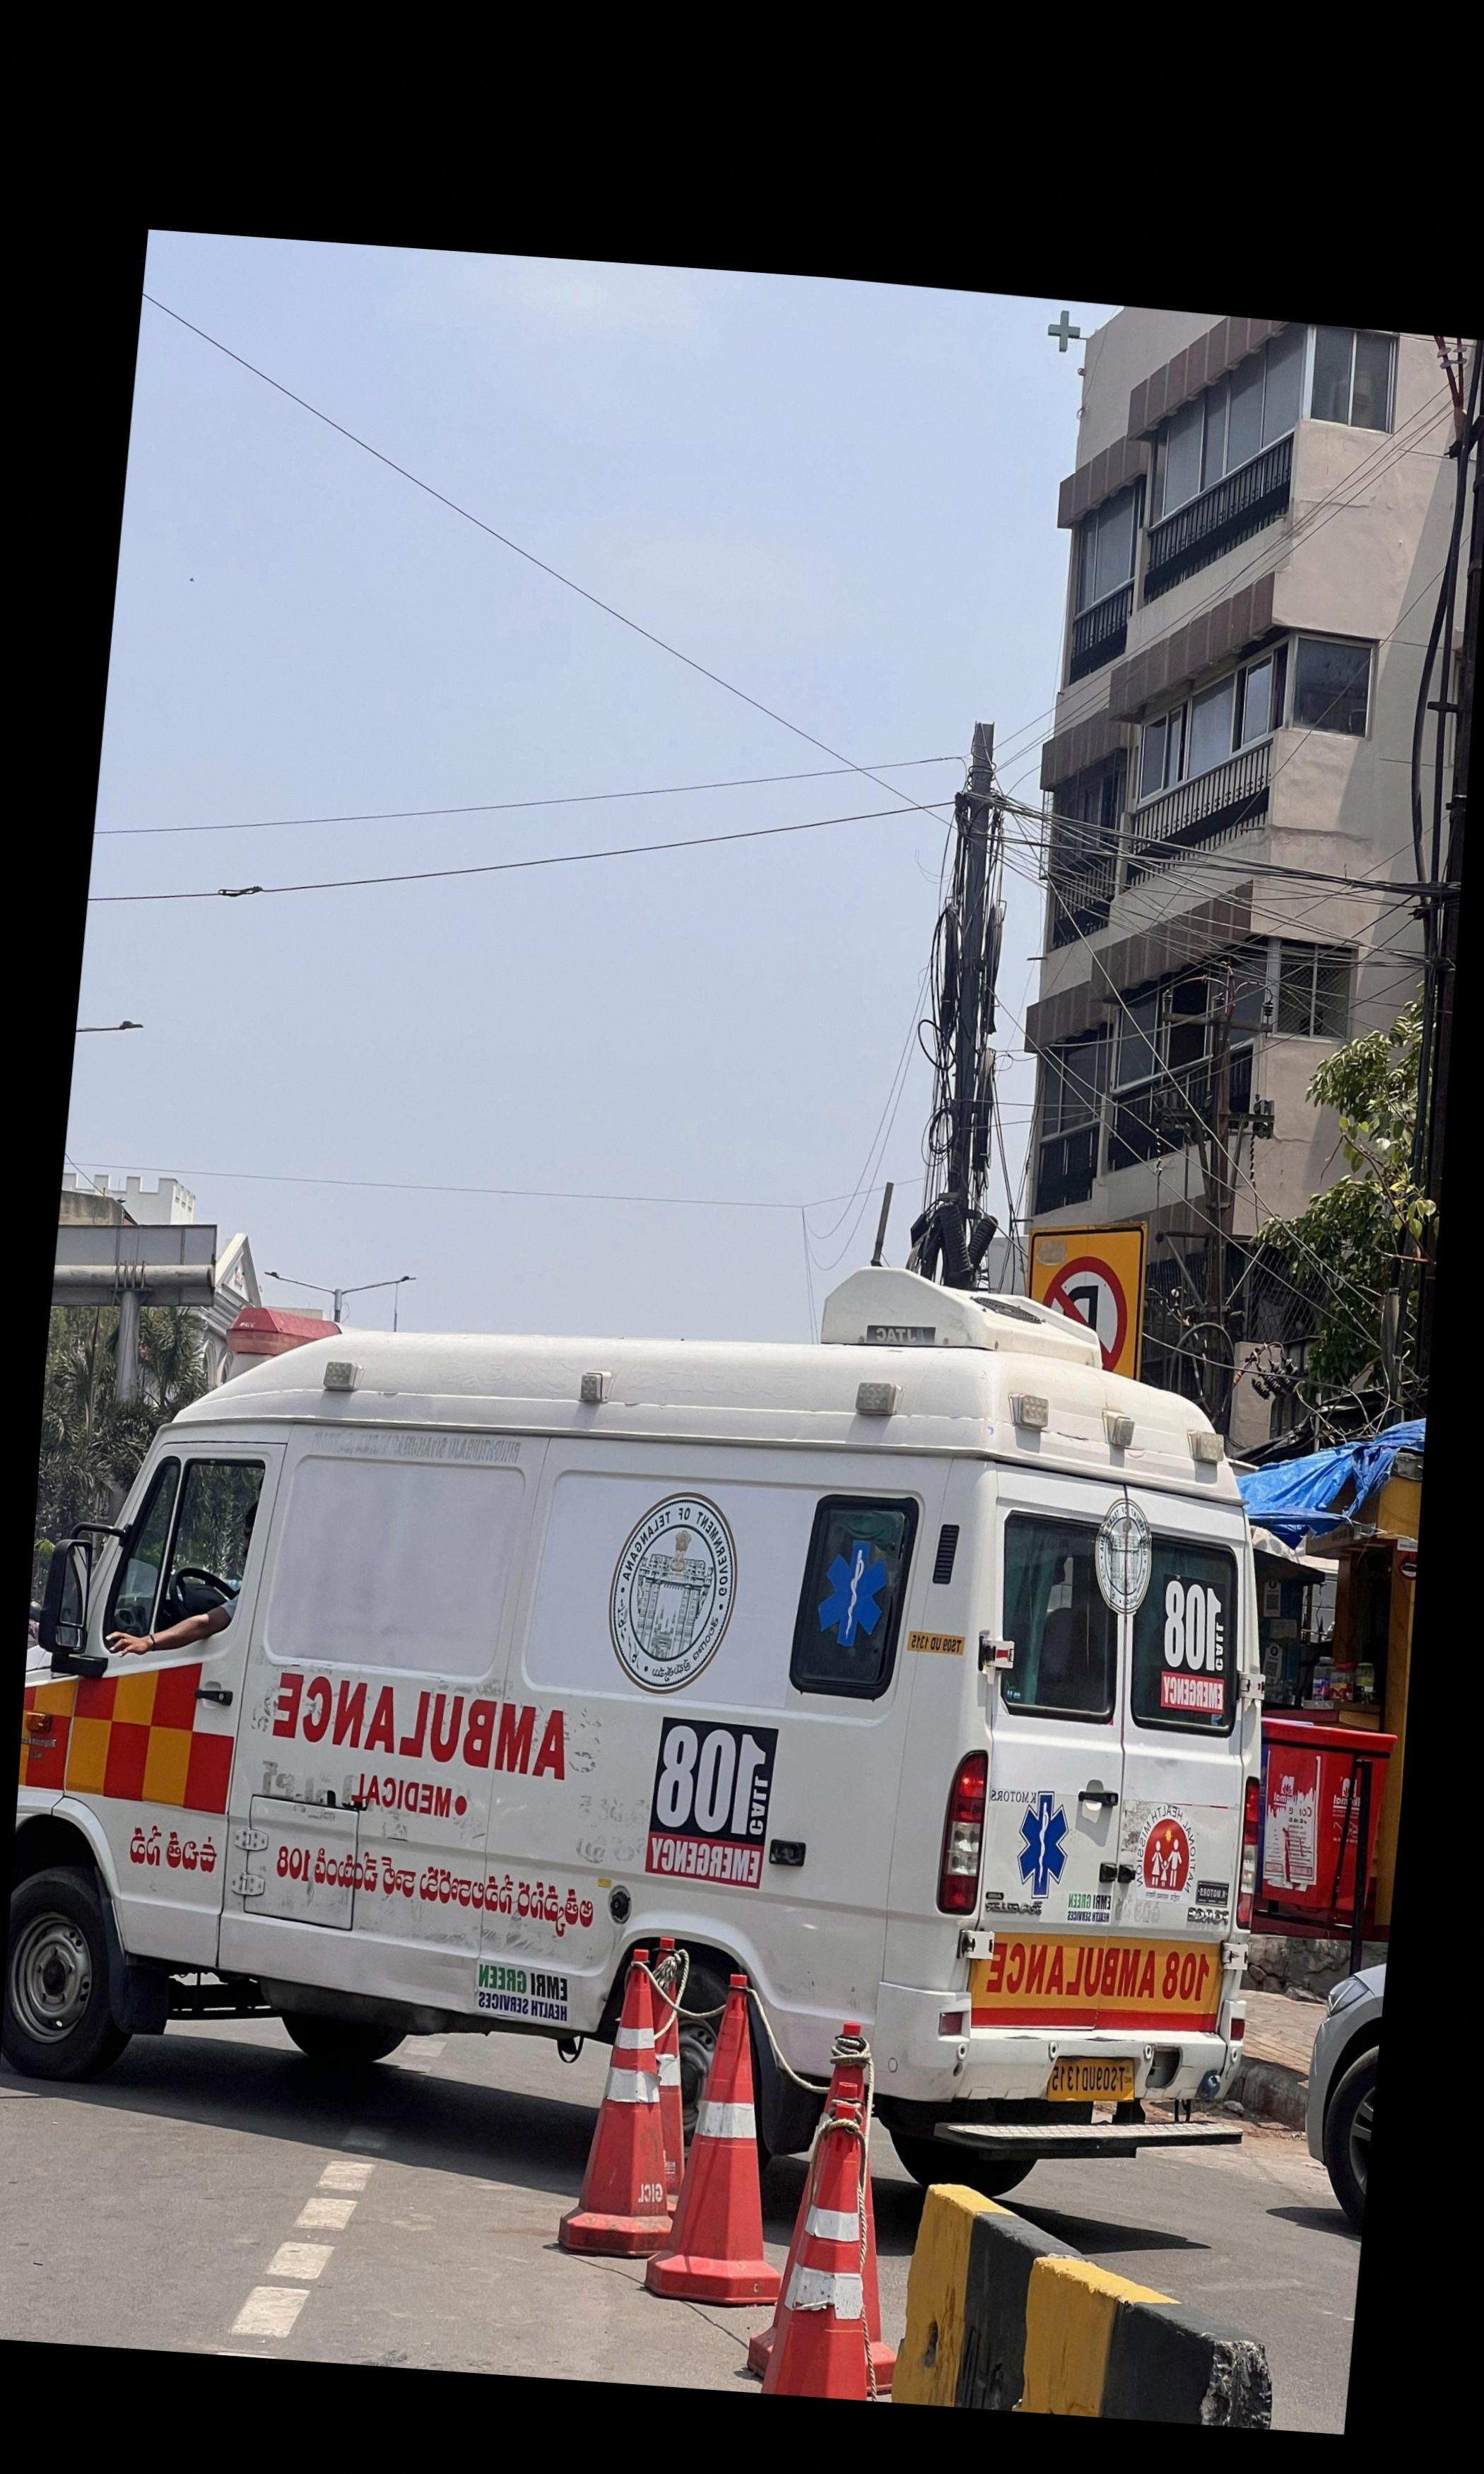ambulance: (0, 1269, 1265, 2126)
